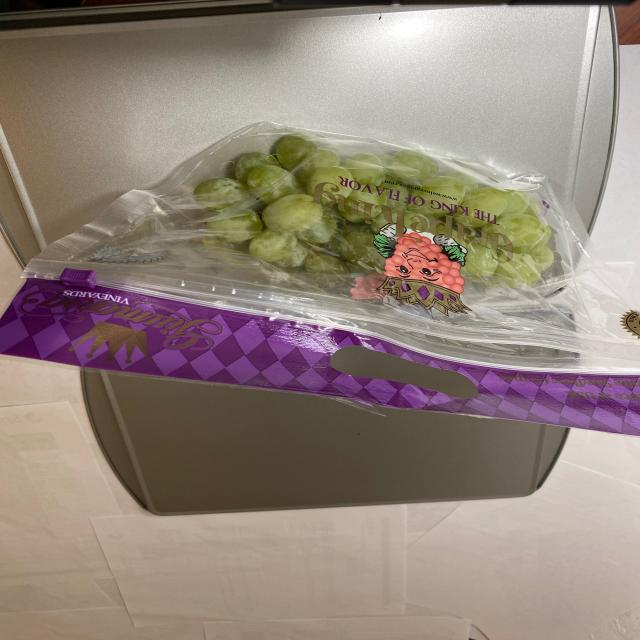grapes: (157, 146, 574, 288)
